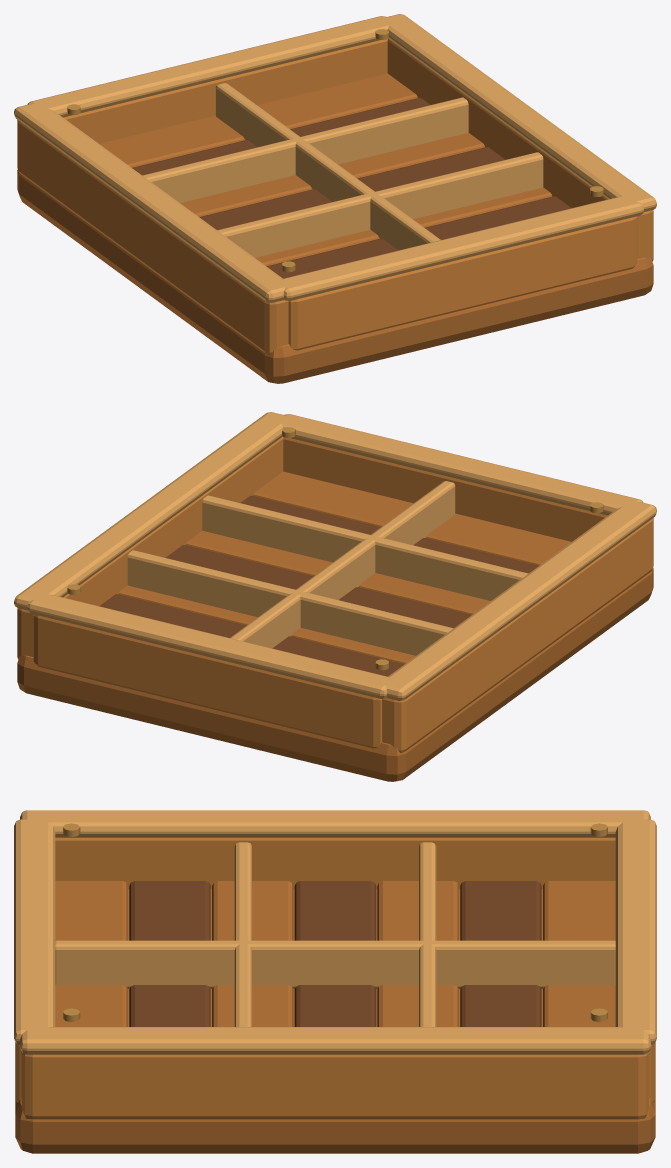
Rendered from Tray_Six_Pocket.fbx.
The picture shows the model from 3 angles, top to bottom: view 1: azimuth 30°, elevation 25°; view 2: azimuth 150°, elevation 25°; view 3: azimuth 270°, elevation 25°; orthographic projection. The views are drawn at different scales.
Parts seen in each view (by area): view 1: Body; view 2: Body; view 3: Body.
Part boxes in pixels (x1,y1,x2,y2): Body: (14, 14, 656, 383); Body: (14, 412, 656, 781); Body: (14, 810, 656, 1153).
Size of the model in its own units: 1.73 by 0.428 by 2.
